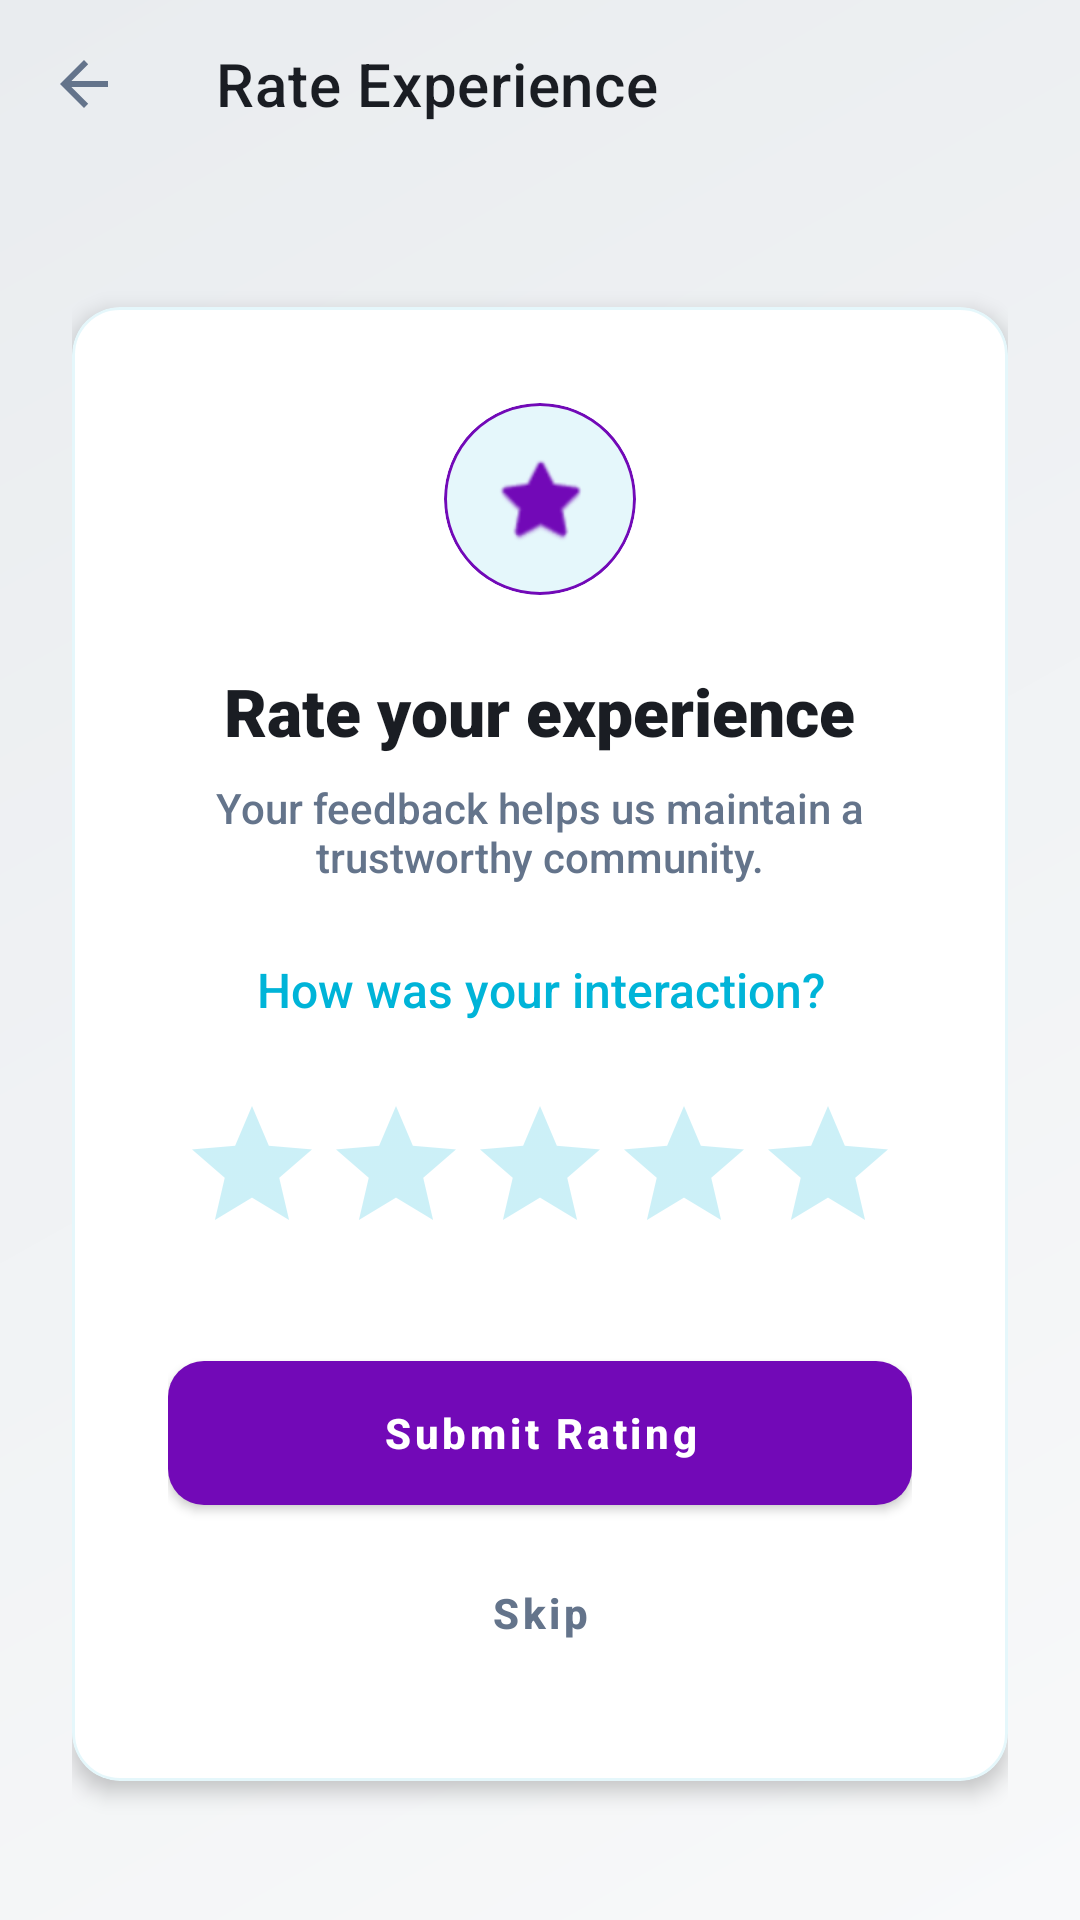

Screen size 1080w x 1920h. Icon name, then its box in pixels as bbox(x1, y1, x2, y2):
star on: bbox(501, 461, 581, 539)
